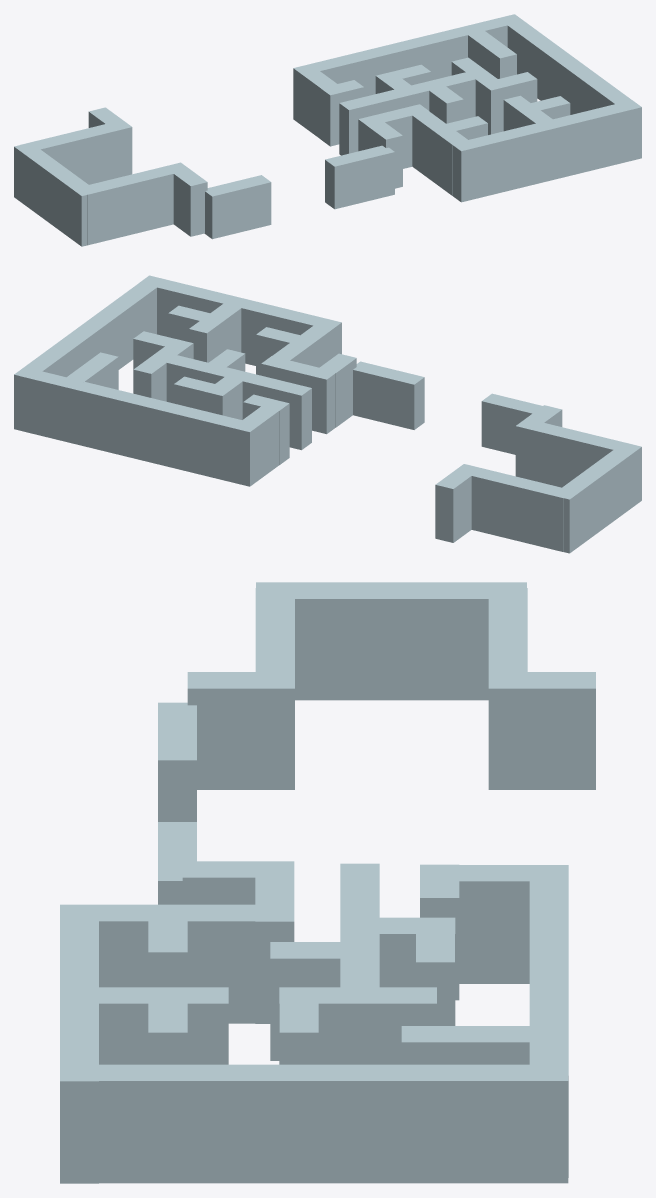
File: laberinto3.fbx
3 renders of one model, top to bottom at view 1: azimuth 30°, elevation 25°; view 2: azimuth 150°, elevation 25°; view 3: azimuth 270°, elevation 25°, orthographic. The views are drawn at different scales.
Parts seen in each view (by area): view 1: Cube.002; view 2: Cube.002; view 3: Cube.002.
Boxes of the visible parts, x1,y1,x2,y2 form: Cube.002: [14, 14, 641, 246]; Cube.002: [14, 275, 641, 553]; Cube.002: [60, 582, 595, 1183].
Bounding box in the file's own units: 3019 × 289 × 1370.
Materials: 1 (1 with a texture image).
